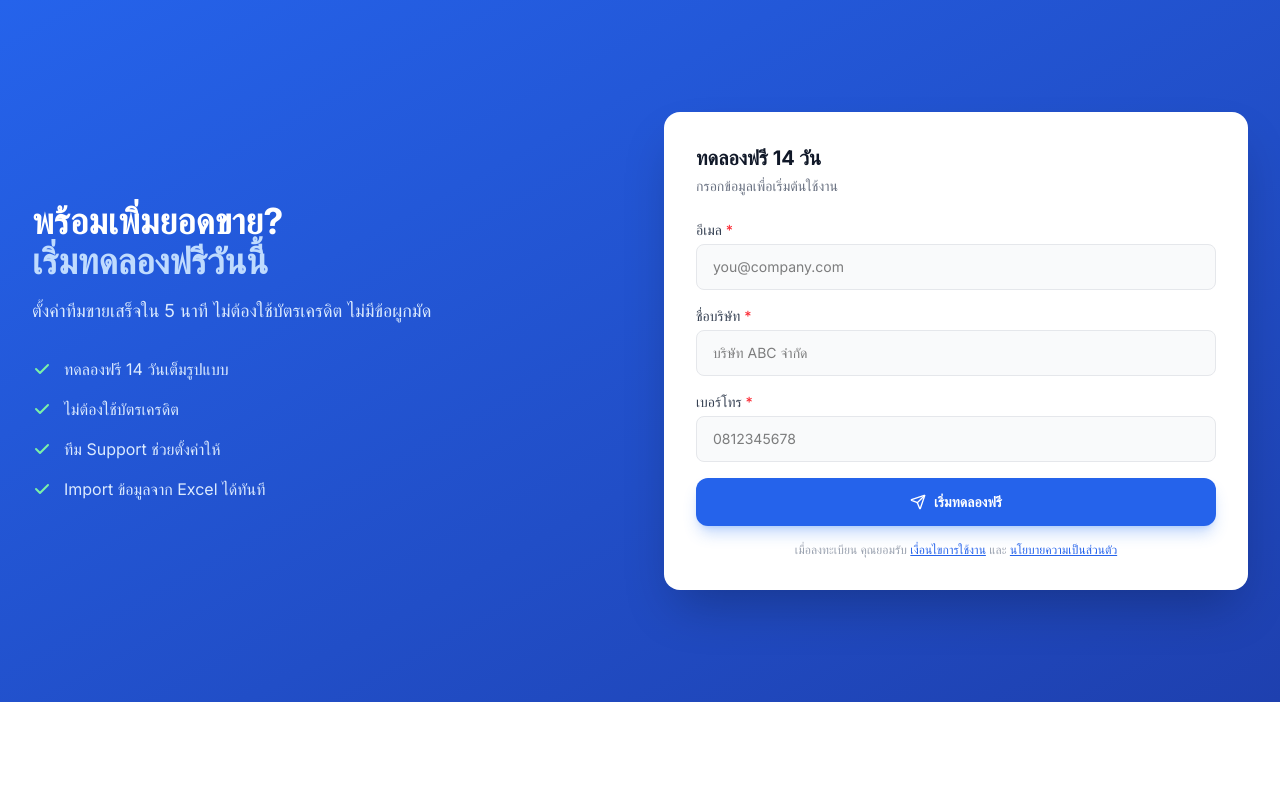
Test: LeadCapture › clears error when user types in errored field
The image size is (1280, 800).
Step 1. Click the button "เริ่มทดลองฟรี" → (956, 502), box [696,478,1216,526]
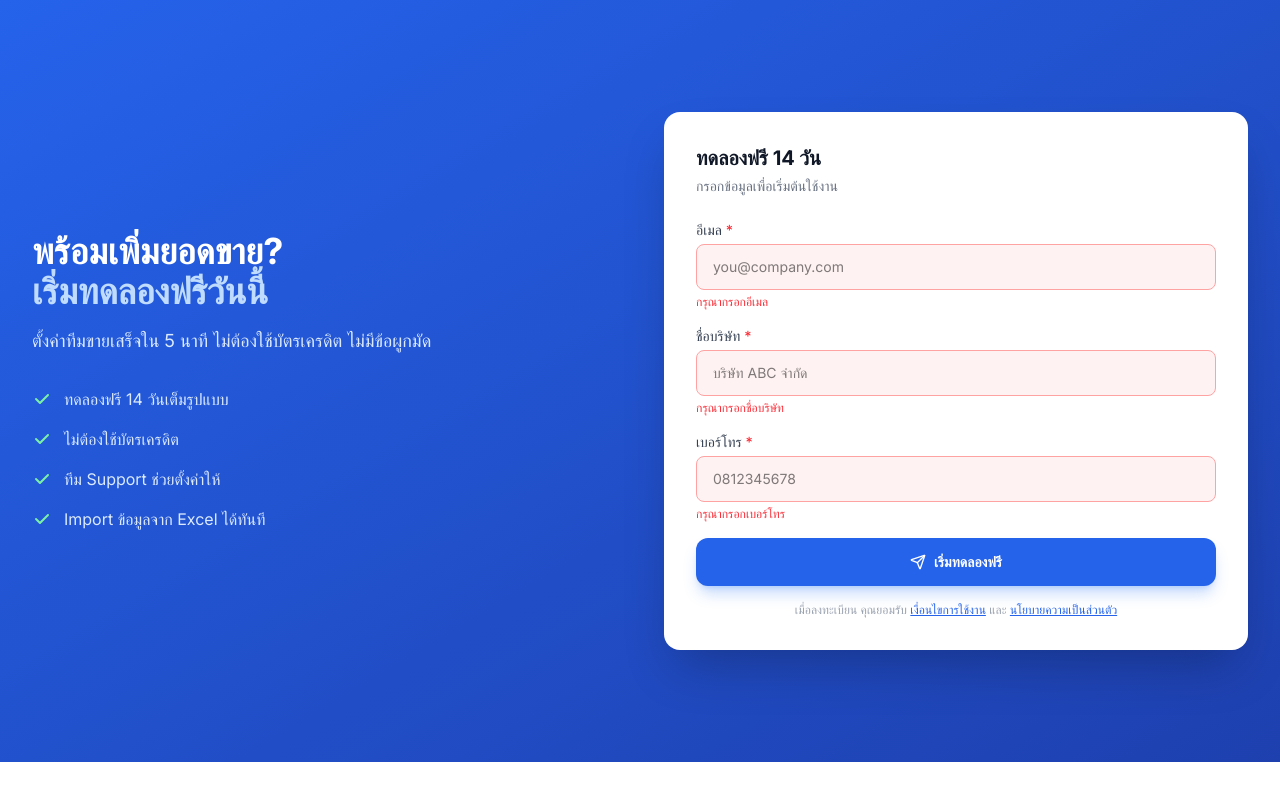
Expected: the text "กรุณากรอกอีเมล" is shown, [696,294,768,309]
Step 2. Type "a@b.com" into the field labelled "อีเมล *" → (956, 267), box [696,244,1216,290]
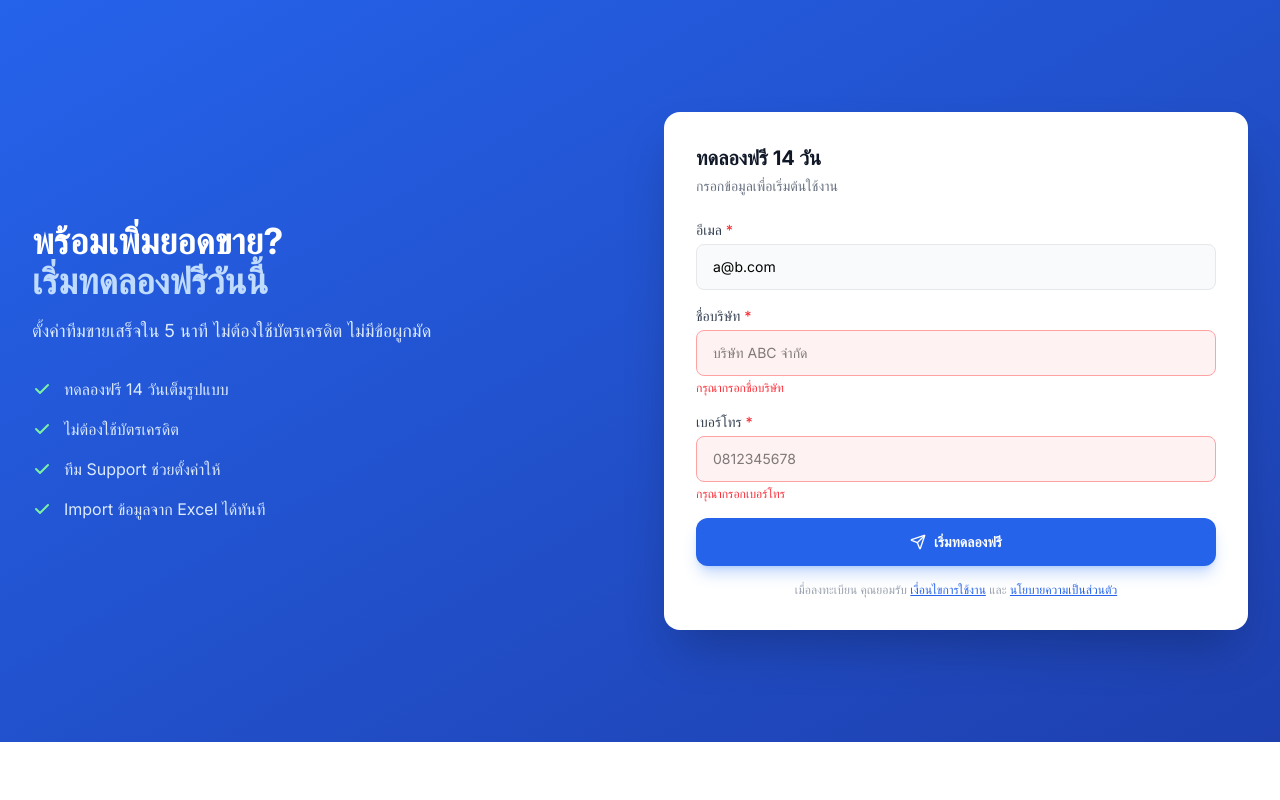
Expected: the text "กรุณากรอกอีเมล" is gone
